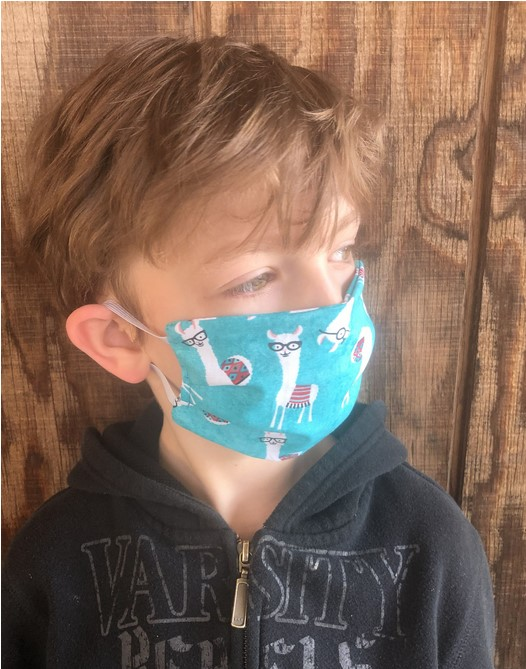face_with_mask: (62, 42, 374, 467)
